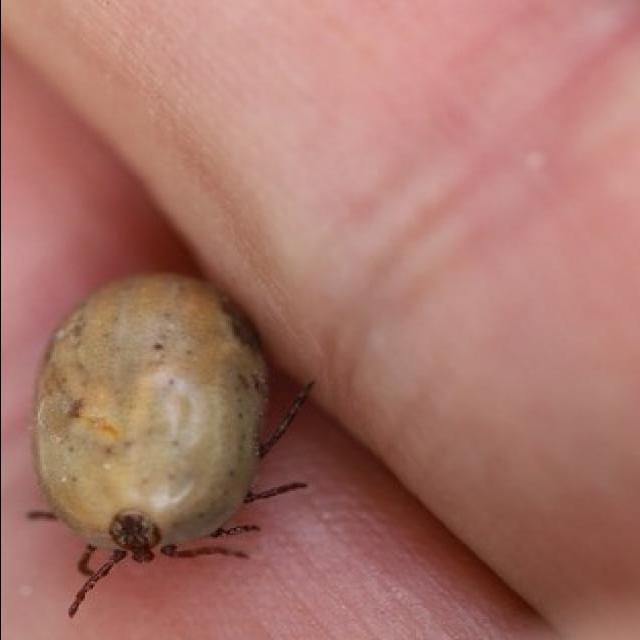Dermacentor Reticulatus-F-Fed: (27, 270, 315, 615)
